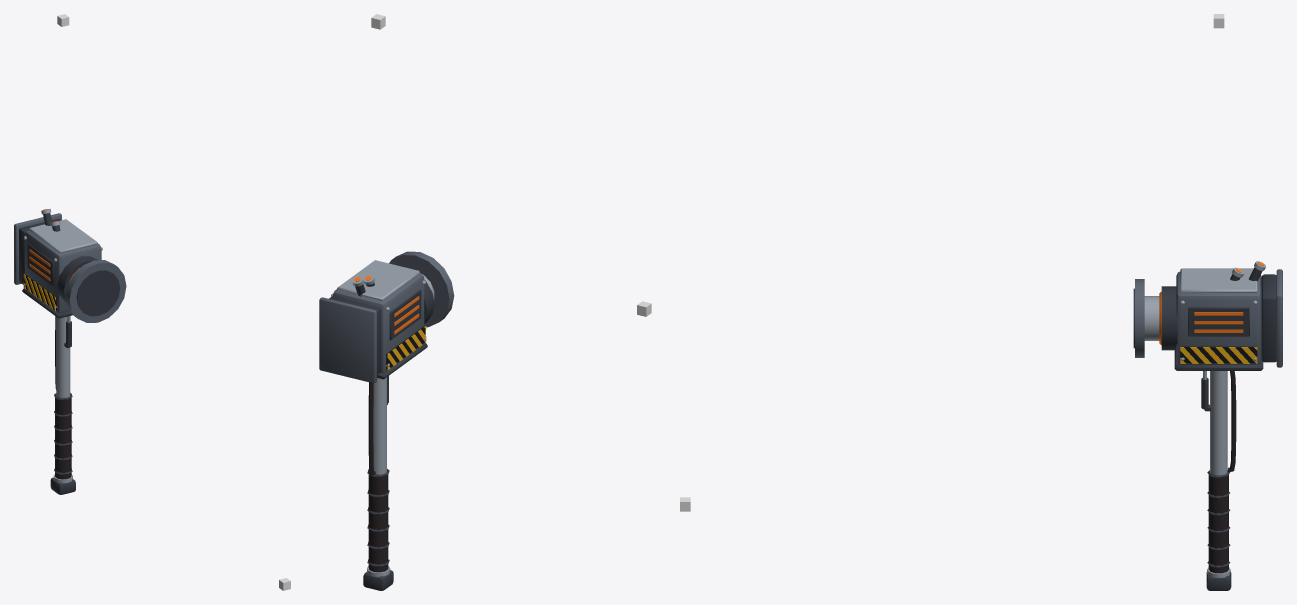
File: BrannHammer.fbx
3 renders of one model, left to right at view 1: azimuth 30°, elevation 25°; view 2: azimuth 150°, elevation 25°; view 3: azimuth 270°, elevation 25°, orthographic. The views are drawn at different scales.
Visible parts, largest first — view 1: Body; view 2: Body; view 3: Body, Glow.
Part boxes in pixels (<box>): Body: <box>14,208,126,494</box>; Body: <box>319,251,454,590</box>; Body: <box>1133,261,1282,590</box>; Glow: <box>1159,262,1263,344</box>.
Bounding box in the file's own units: 1.48 × 11.83 × 11.3.
1 material, 1 textured.
